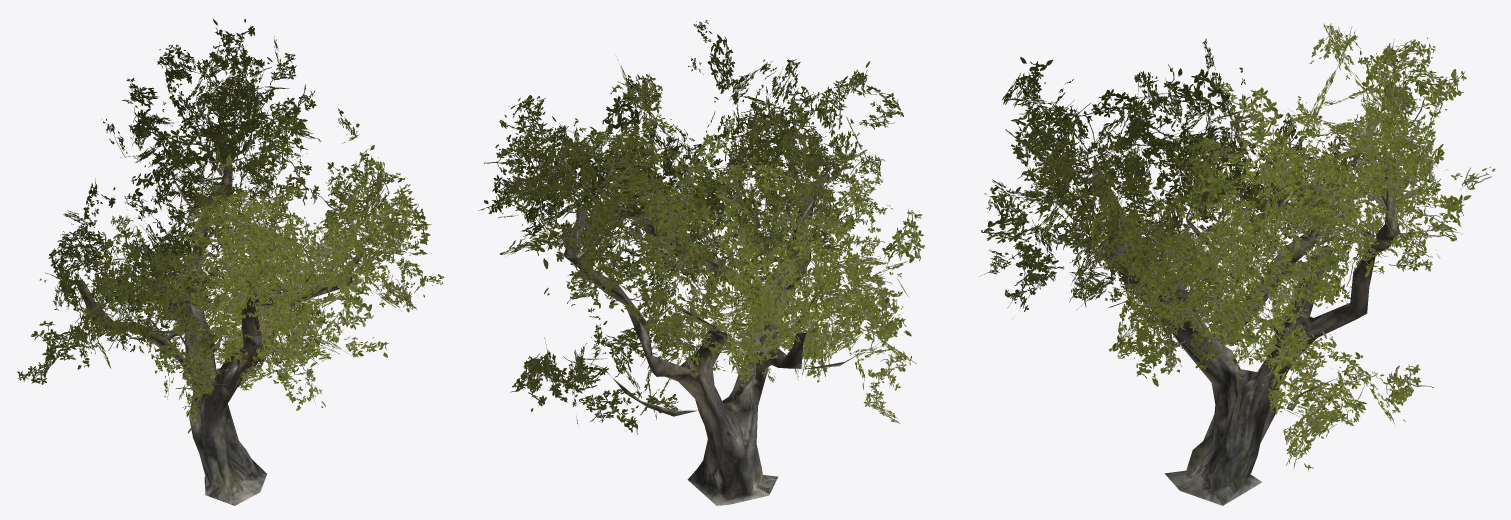
3 renders of one model, left to right at view 1: azimuth 30°, elevation 25°; view 2: azimuth 150°, elevation 25°; view 3: azimuth 270°, elevation 25°, orthographic. The views are drawn at different scales.
Visible parts, largest first — view 1: island_tree_01_lod2; view 2: island_tree_01_lod2; view 3: island_tree_01_lod2.
Part boxes in pixels (x1,y1,x2,y2): island_tree_01_lod2: [17, 19, 444, 505]; island_tree_01_lod2: [478, 20, 924, 505]; island_tree_01_lod2: [981, 23, 1495, 505].
Bounding box in the file's own units: 4.81 × 5.01 × 4.87.
Materials: 3 (3 with a texture image).
